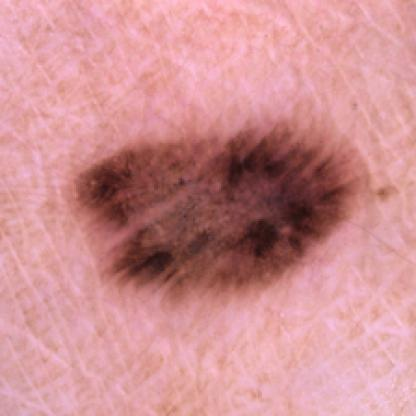benign: (63, 138, 373, 284)
